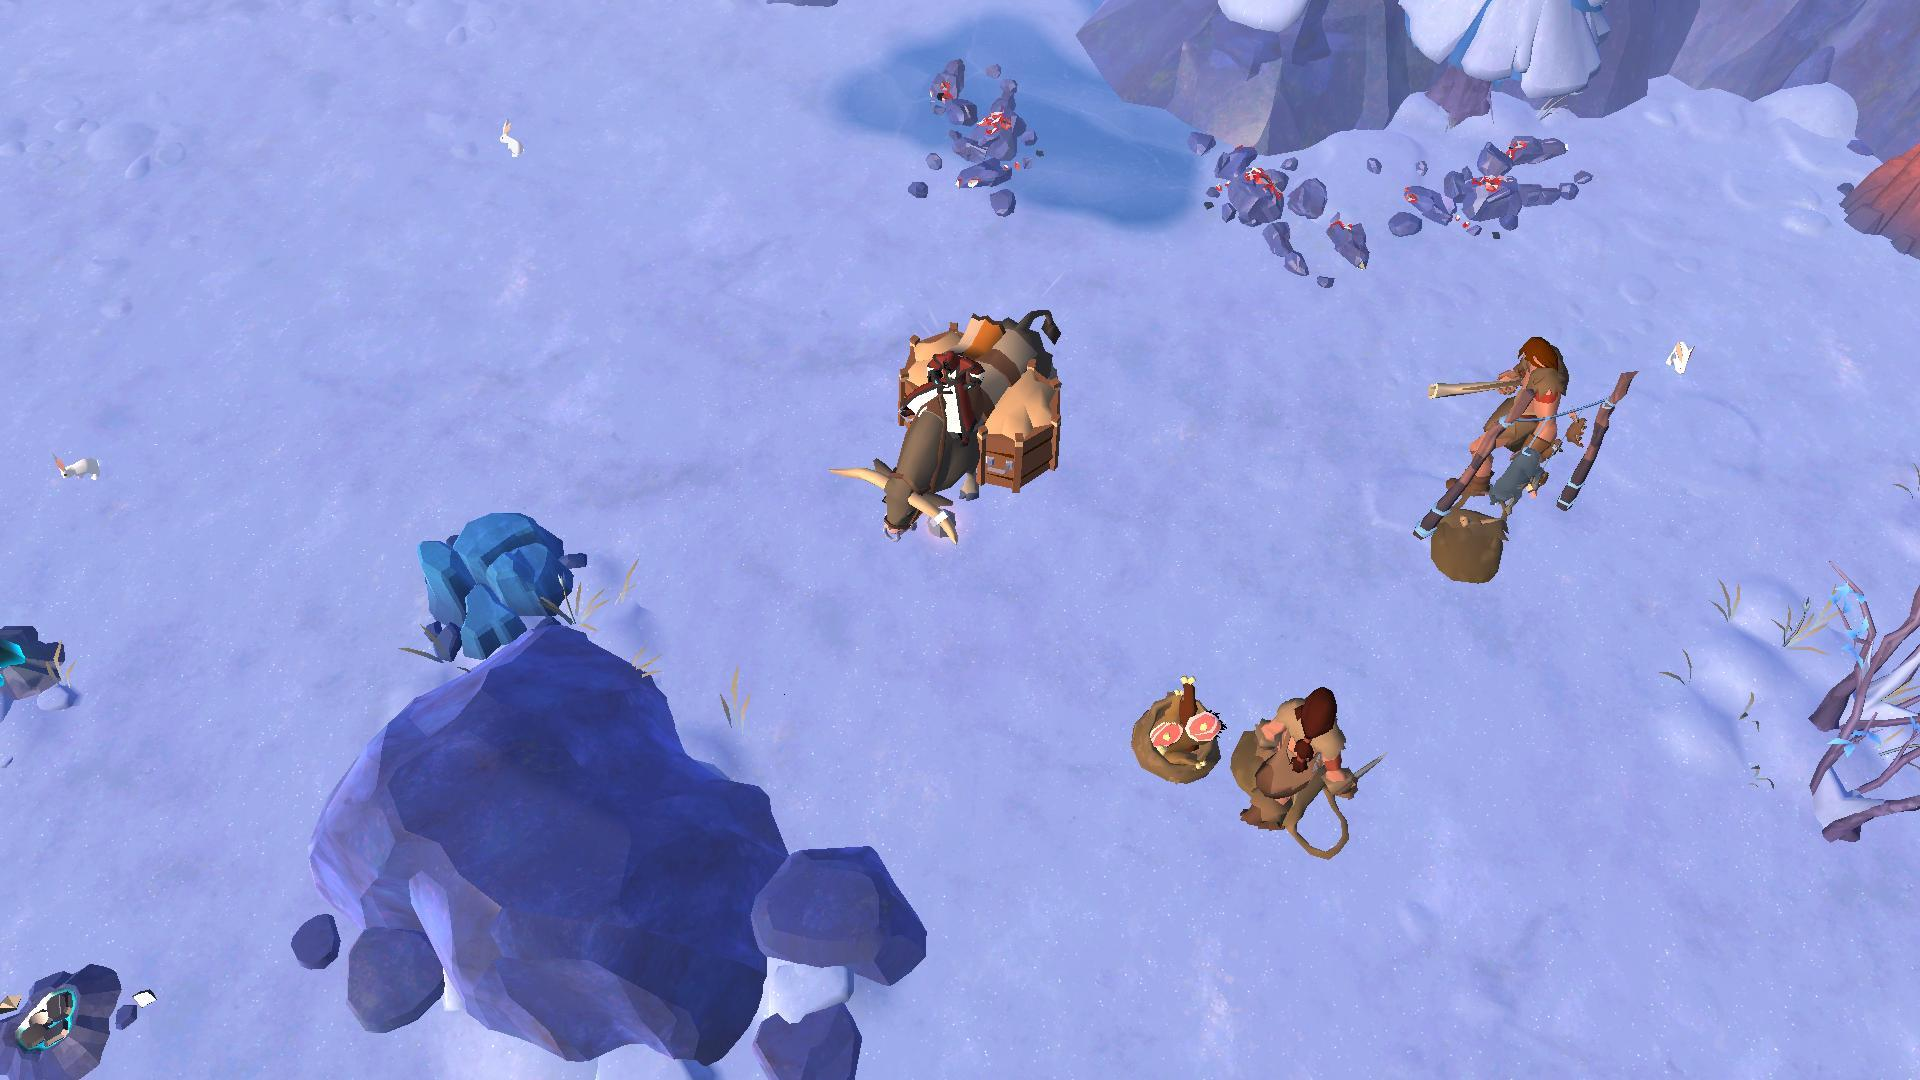enemy_factionKeeper: (1428, 316, 1567, 475), (1228, 678, 1360, 828)
rock_t4: (405, 498, 571, 647)
rock_t5: (1818, 138, 1920, 269)
